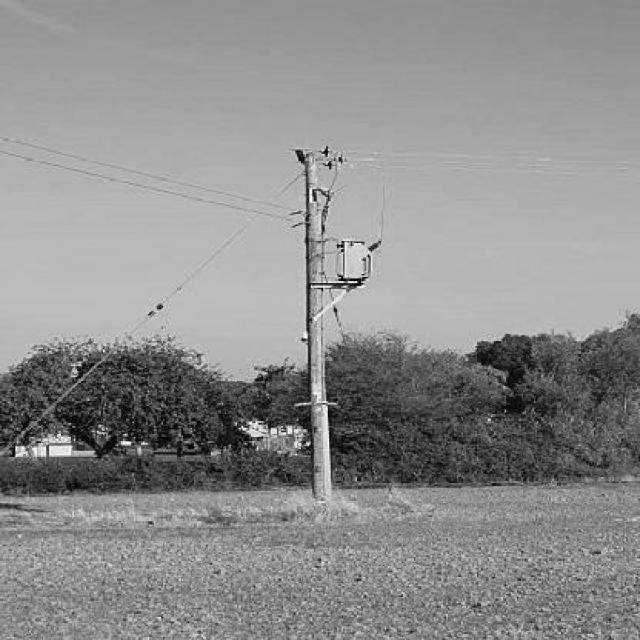Pole: (297, 150, 330, 502)
